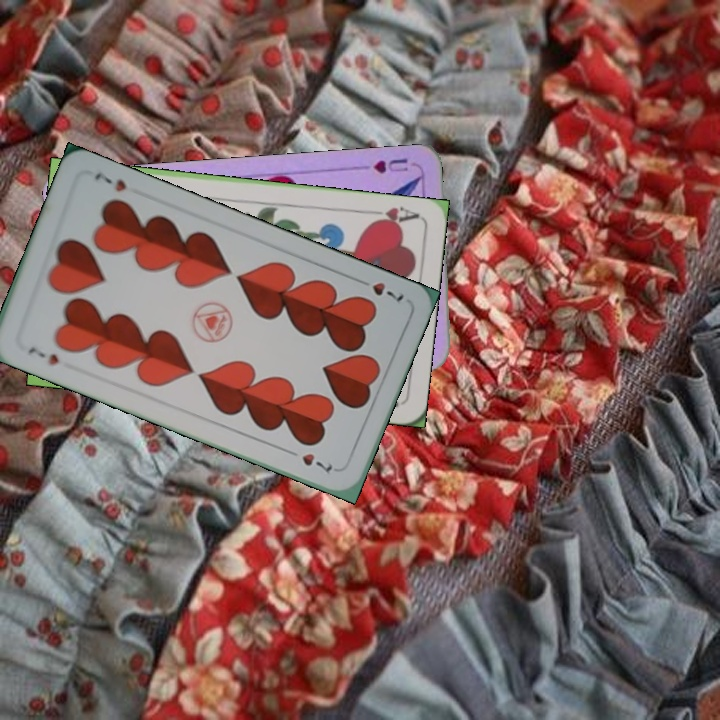H7: (352, 274, 407, 306), (24, 342, 62, 368)
HA: (362, 202, 421, 229)
HU: (369, 154, 415, 176)
